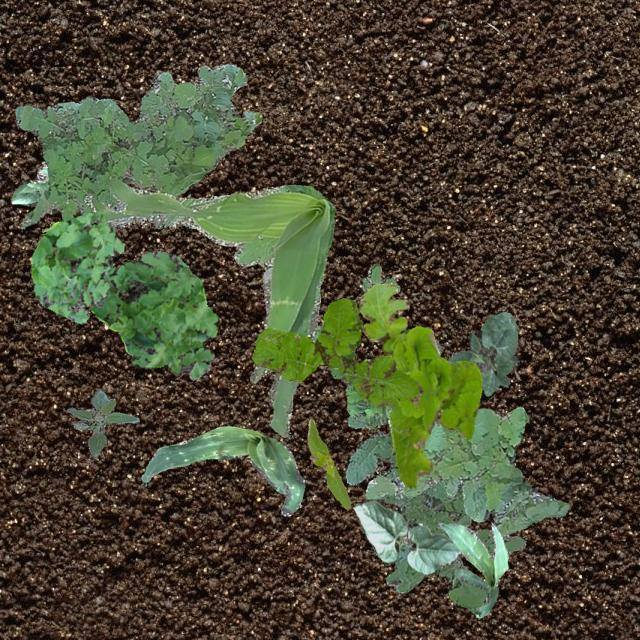crop: (140, 424, 304, 514), (352, 498, 462, 572), (437, 522, 508, 616), (446, 310, 518, 394), (306, 418, 349, 508), (10, 163, 48, 206)
weed: (83, 176, 334, 438), (343, 338, 524, 612), (13, 62, 260, 228), (364, 404, 568, 536), (352, 282, 480, 488), (250, 297, 422, 403), (90, 250, 218, 380), (30, 210, 124, 322), (312, 320, 384, 418), (65, 388, 138, 456), (361, 262, 398, 292)
